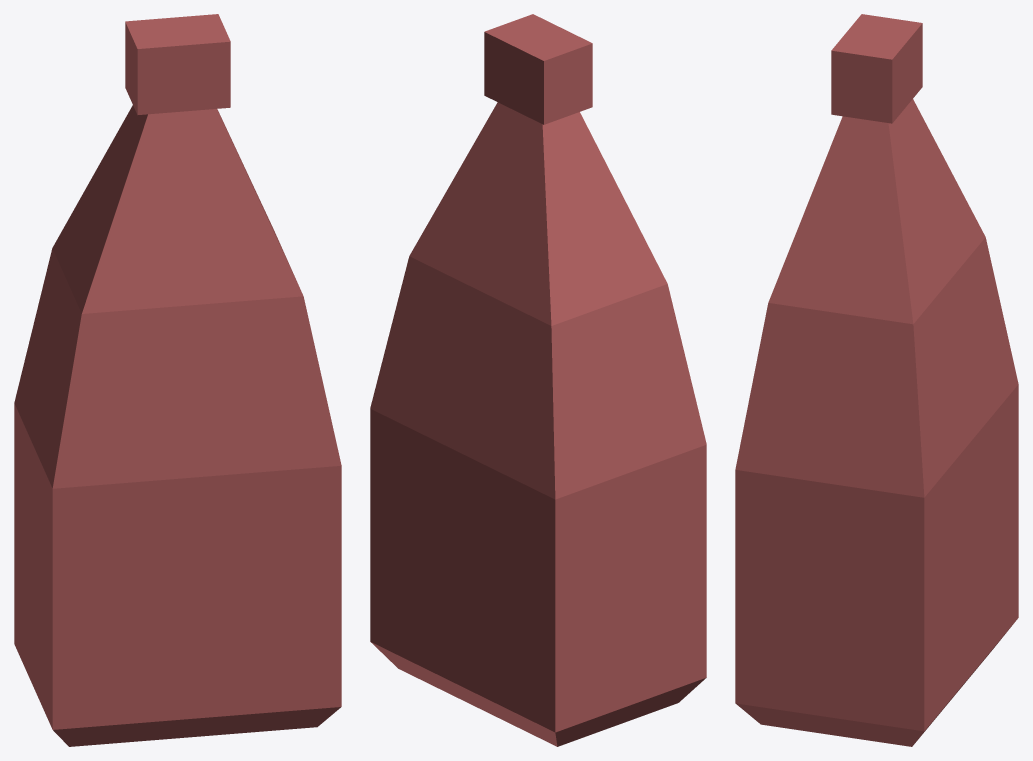
The model's file is Kitchen_Bottle8.fbx.
The picture shows the model from 3 angles, left to right: view 1: azimuth 30°, elevation 25°; view 2: azimuth 150°, elevation 25°; view 3: azimuth 270°, elevation 25°; orthographic projection. The views are drawn at different scales.
Visible parts, largest first — view 1: Kitchen_Bottle8; view 2: Kitchen_Bottle8; view 3: Kitchen_Bottle8.
Boxes of the visible parts, box(x1,y1,x2,y2) form: Kitchen_Bottle8: box(14, 14, 341, 746); Kitchen_Bottle8: box(370, 14, 706, 746); Kitchen_Bottle8: box(735, 14, 1018, 746).
Size of the model in its own units: 17.41 by 37.27 by 14.72.
